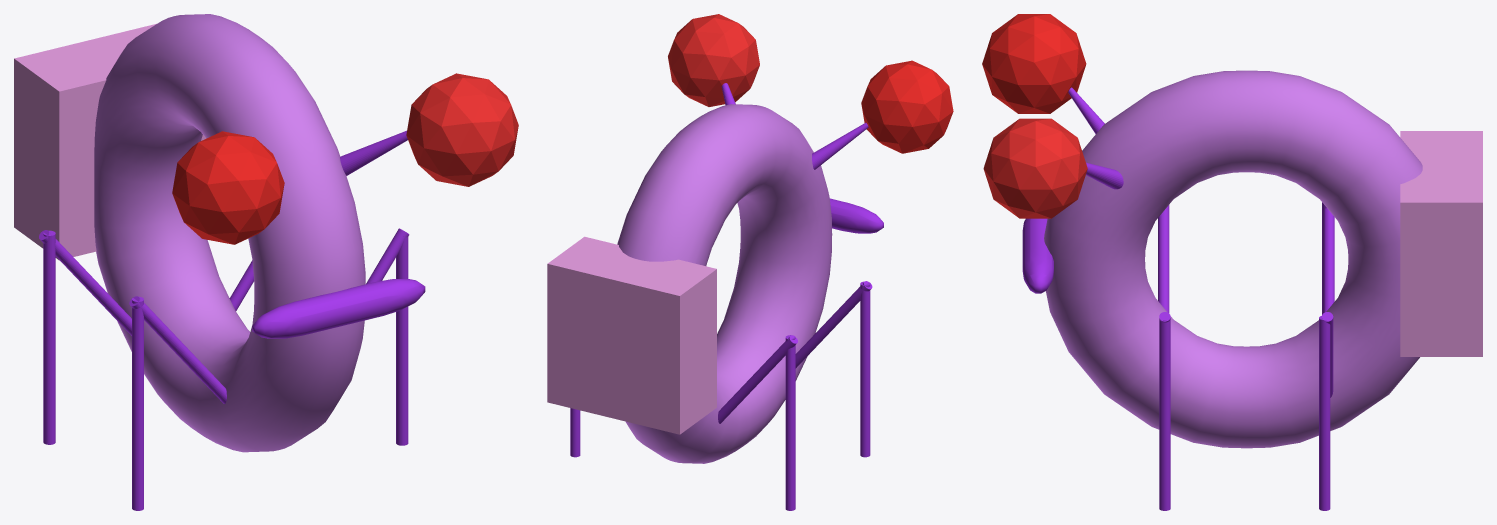
The model's file is estatua.fbx.
3 renders of one model, left to right at view 1: azimuth 30°, elevation 25°; view 2: azimuth 150°, elevation 25°; view 3: azimuth 270°, elevation 25°, orthographic. The views are drawn at different scales.
Visible parts, largest first — view 1: Icosphere.001; view 2: Icosphere.001; view 3: Icosphere.001.
Boxes of the visible parts, box(x1,y1,x2,y2) form: Icosphere.001: box(14, 14, 518, 510); Icosphere.001: box(547, 14, 953, 510); Icosphere.001: box(982, 14, 1482, 510).
Size of the model in its own units: 409 by 497 by 589.
